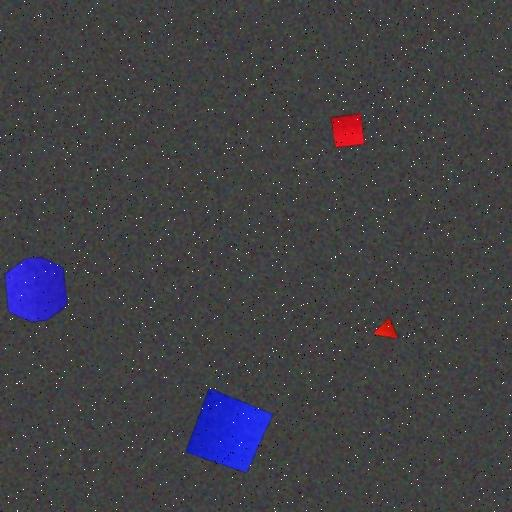BLUE_SQUARE: (184, 387, 274, 474)
RED_SQUARE: (330, 113, 366, 149)
